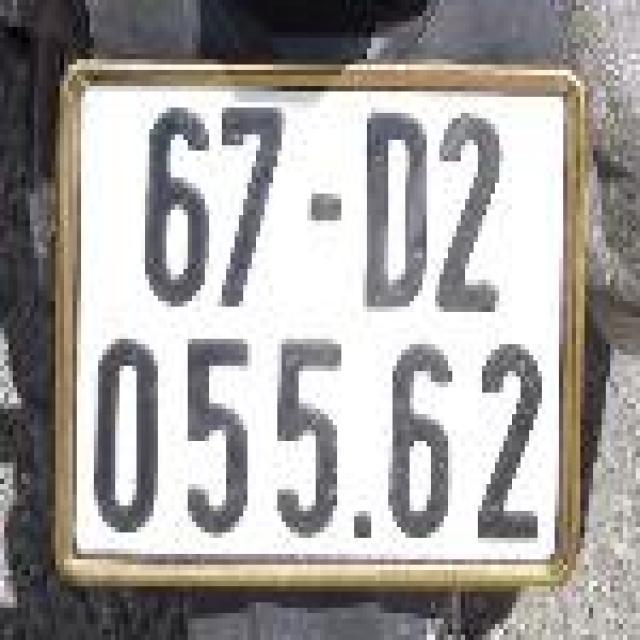0: (88, 320, 168, 546)
2: (431, 99, 520, 331), (471, 330, 557, 556)
5: (168, 317, 254, 554), (271, 320, 348, 546)
6: (124, 91, 213, 312), (378, 322, 458, 548)
7: (215, 70, 292, 312)
D: (350, 94, 435, 320)
